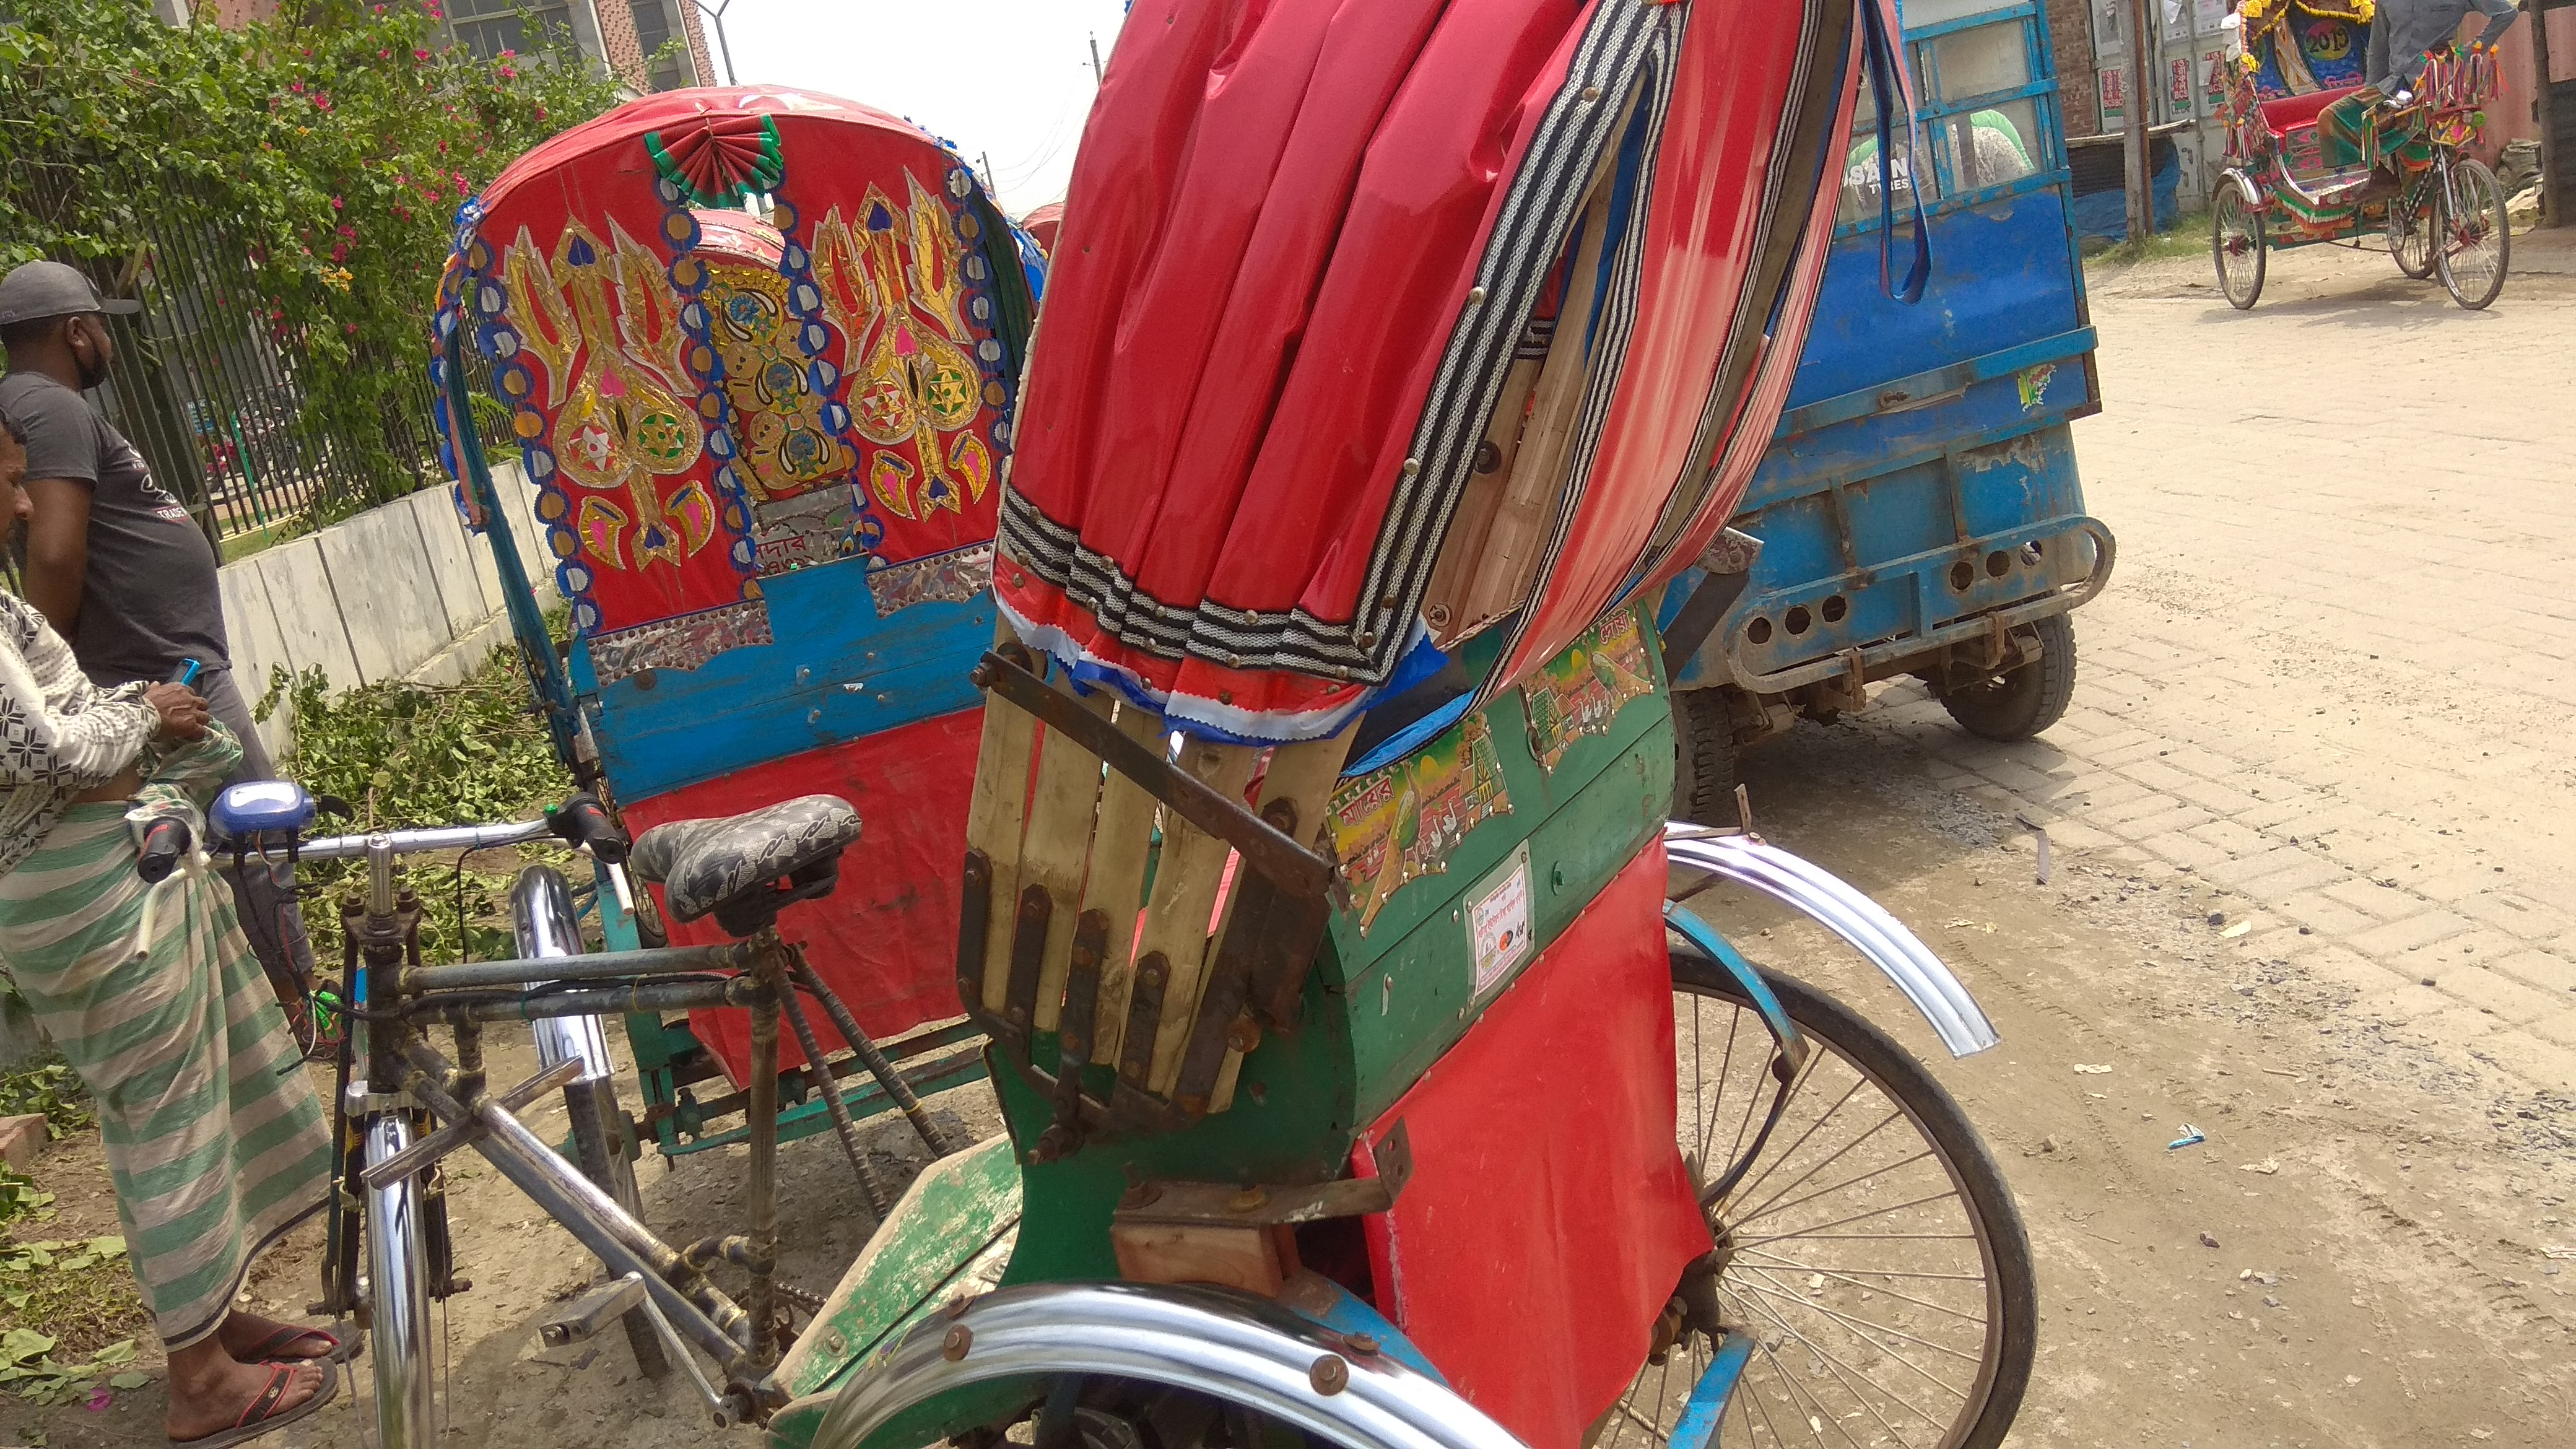Rickshaw: (943, 4, 1964, 1447), (400, 46, 1138, 1182), (2201, 2, 2549, 322)
